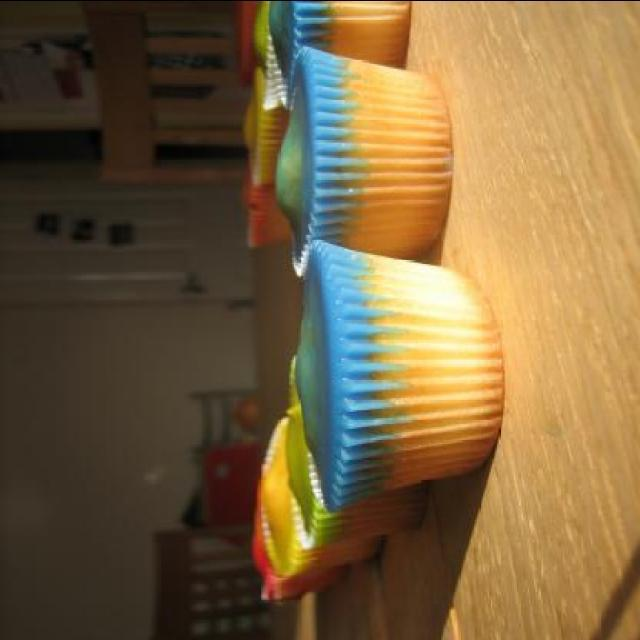Muffin: (290, 237, 507, 520), (274, 49, 452, 246), (283, 360, 427, 552), (254, 422, 388, 576), (267, 1, 415, 110), (246, 463, 348, 605), (240, 67, 297, 187), (240, 147, 298, 250), (250, 2, 282, 108)
